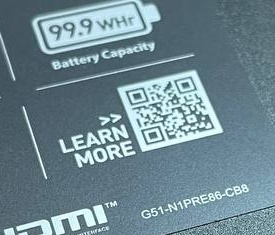2d: (125, 75, 215, 148)
